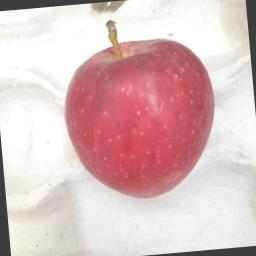Apple Ripe: (52, 5, 224, 205)
